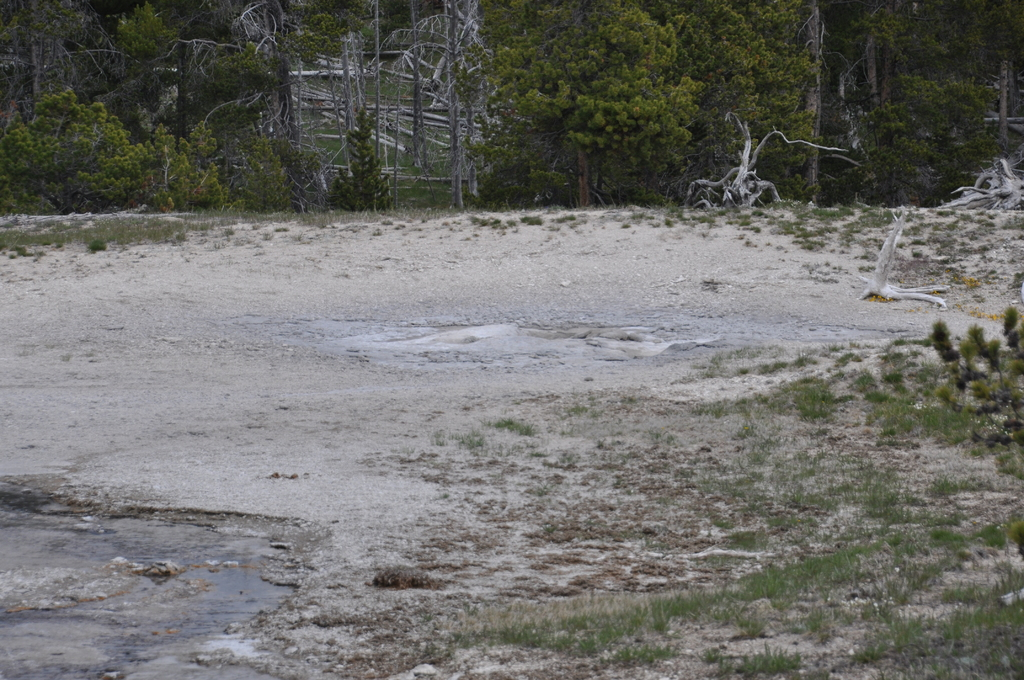Tree: (0, 0, 1023, 214), (471, 32, 741, 194)
